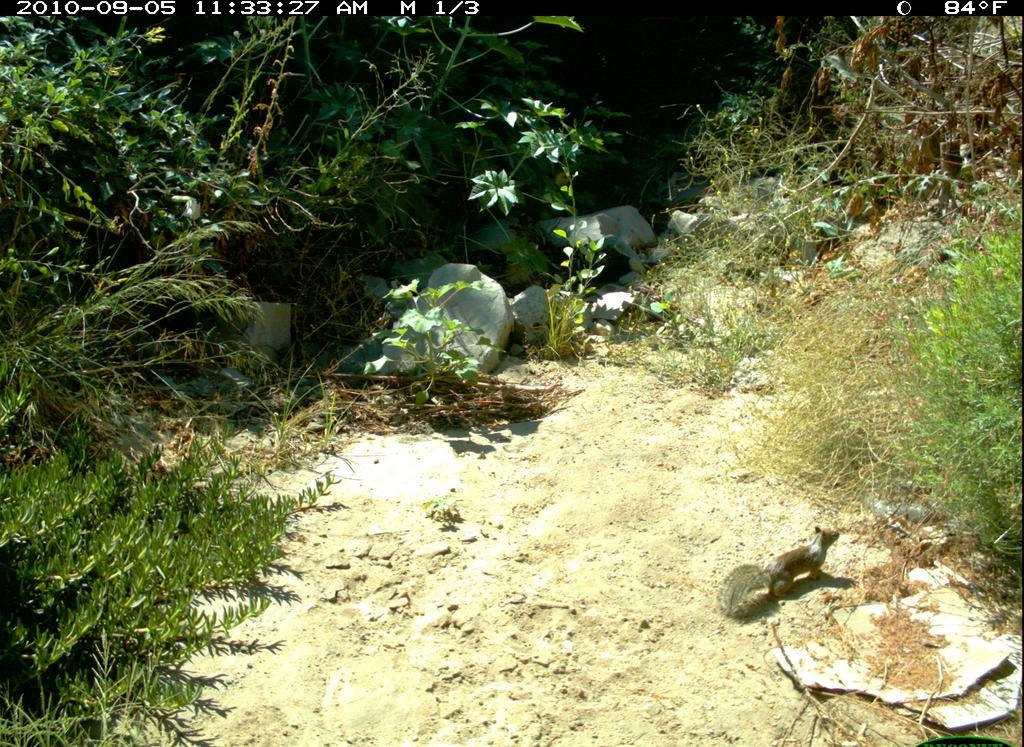squirrel: (701, 516, 852, 628)
